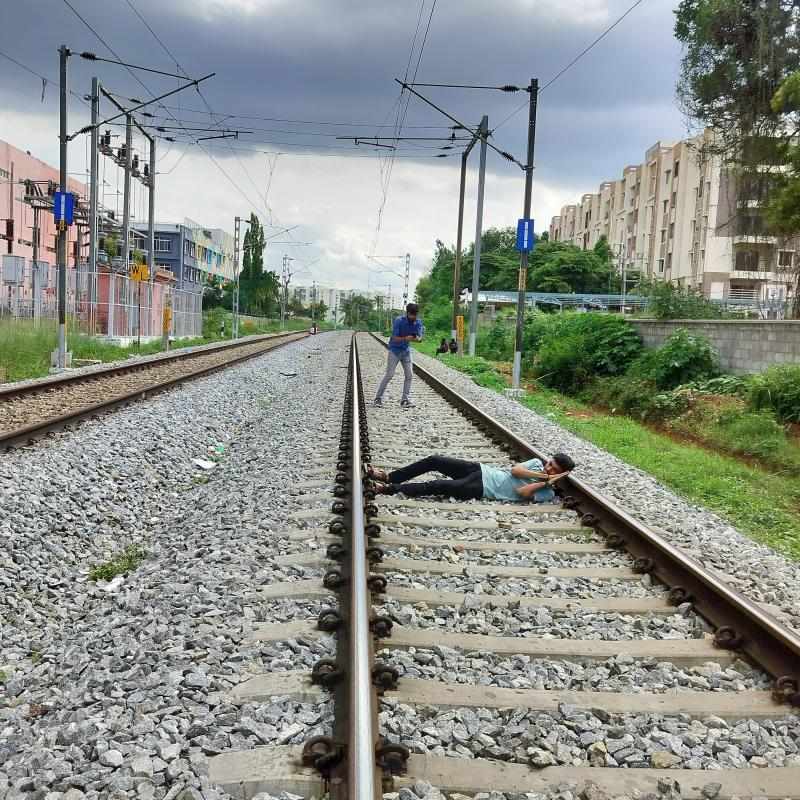sleeping: (346, 440, 586, 515)
